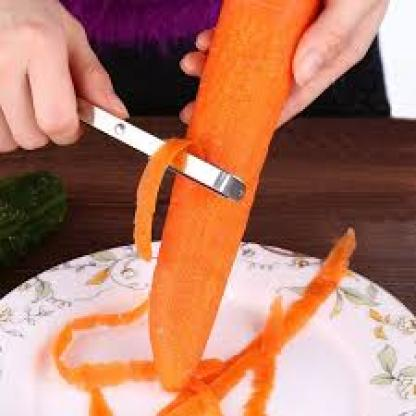Disposable tableware: (68, 5, 354, 416)
